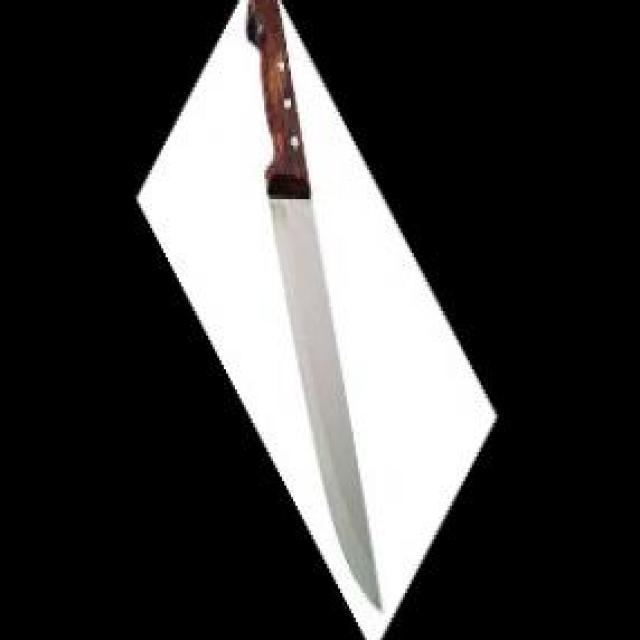knife: (244, 0, 387, 611)
